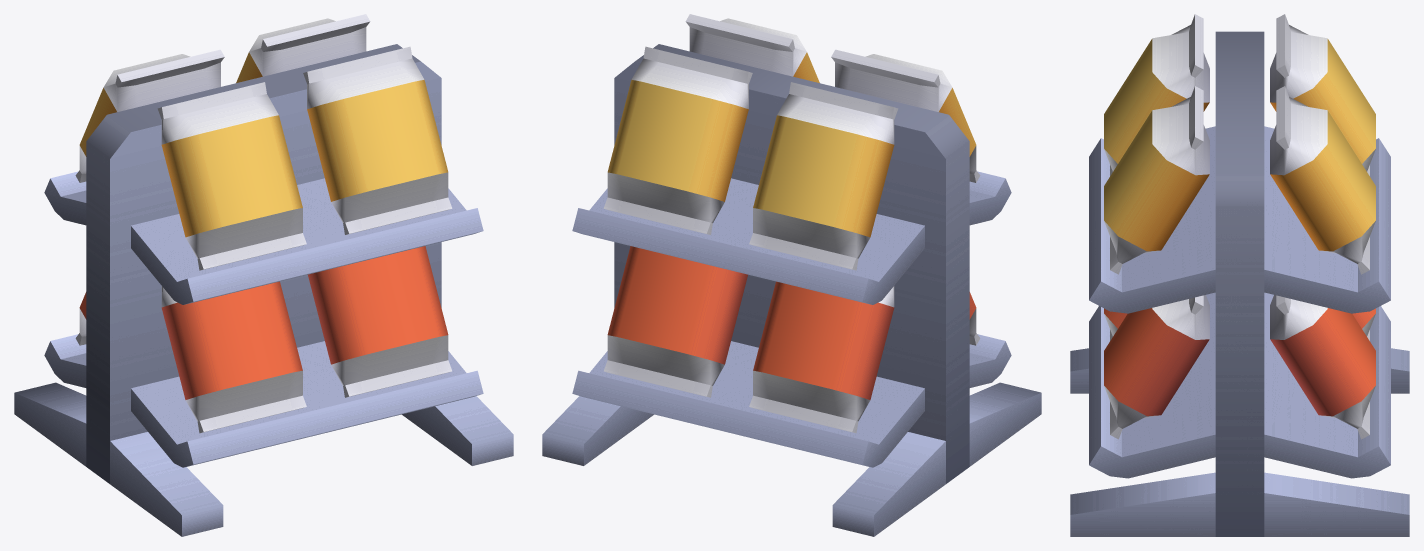
File: shelf-bags.glb
3 renders of one model, left to right at view 1: azimuth 30°, elevation 25°; view 2: azimuth 150°, elevation 25°; view 3: azimuth 270°, elevation 25°, orthographic.
Parts seen in each view (by area): view 1: shelf-bags, bag_1, bag, bag_3, bag_2, bag_4, bag_5; view 2: shelf-bags, bag_4, bag_5, bag_6, bag_7, bag_1, bag; view 3: shelf-bags, bag, bag_5, bag_2, bag_7, bag_1, bag_4.
Part boxes in pixels (x1,y1,x2,y2): shelf-bags: (14, 44, 513, 536); bag_1: (157, 82, 306, 270); bag: (303, 46, 452, 234); bag_3: (161, 281, 306, 433); bag_2: (308, 246, 451, 397); bag_4: (75, 49, 224, 182); bag_5: (236, 14, 370, 82); shelf-bags: (542, 44, 1041, 536); bag_4: (749, 82, 898, 270); bag_5: (603, 46, 752, 234); bag_6: (749, 281, 894, 433); bag_7: (604, 246, 747, 397); bag_1: (831, 49, 980, 182); bag: (685, 14, 819, 82); shelf-bags: (1070, 31, 1409, 536); bag: (1104, 86, 1209, 274); bag_5: (1270, 86, 1375, 274); bag_2: (1104, 295, 1209, 439); bag_7: (1270, 295, 1375, 439); bag_1: (1104, 14, 1209, 175); bag_4: (1270, 14, 1375, 175).
Size of the model in its own units: 0.8 by 0.8634 by 0.7.
Materials: 1 (1 with a texture image).
